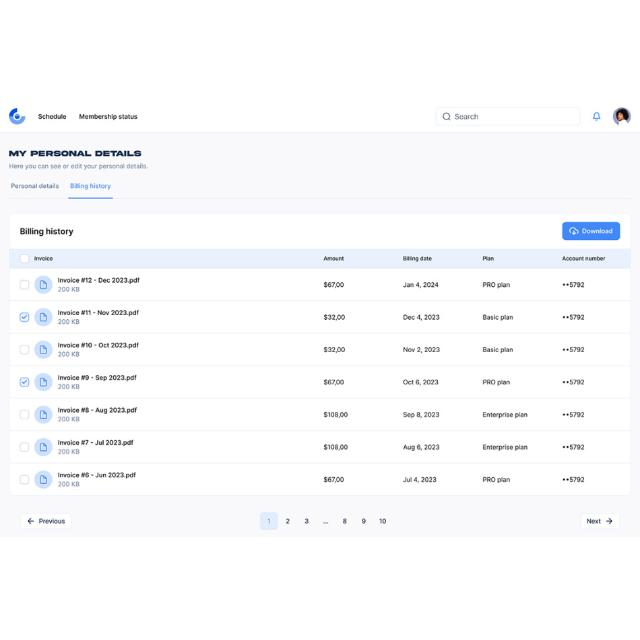QLabel: (8, 148, 142, 158), (8, 162, 148, 168), (20, 226, 74, 236), (78, 112, 138, 120), (69, 182, 111, 190), (10, 182, 60, 188), (38, 113, 66, 119), (38, 518, 64, 524), (582, 228, 612, 232), (586, 518, 600, 524)
VAppBar: (0, 103, 640, 131)
VAvatar: (613, 106, 631, 124)
VBtn: (562, 220, 620, 240), (20, 512, 72, 530), (580, 513, 620, 529)
VCard: (8, 212, 632, 496)
VDataTable: (9, 248, 632, 496)
VIcon: (569, 226, 579, 234), (593, 112, 601, 120), (26, 518, 34, 524), (605, 518, 613, 524)
VImg: (8, 107, 26, 123)
VPagination: (259, 512, 389, 530)
VTabs: (5, 178, 640, 536)
VTextField: (436, 107, 580, 125)
